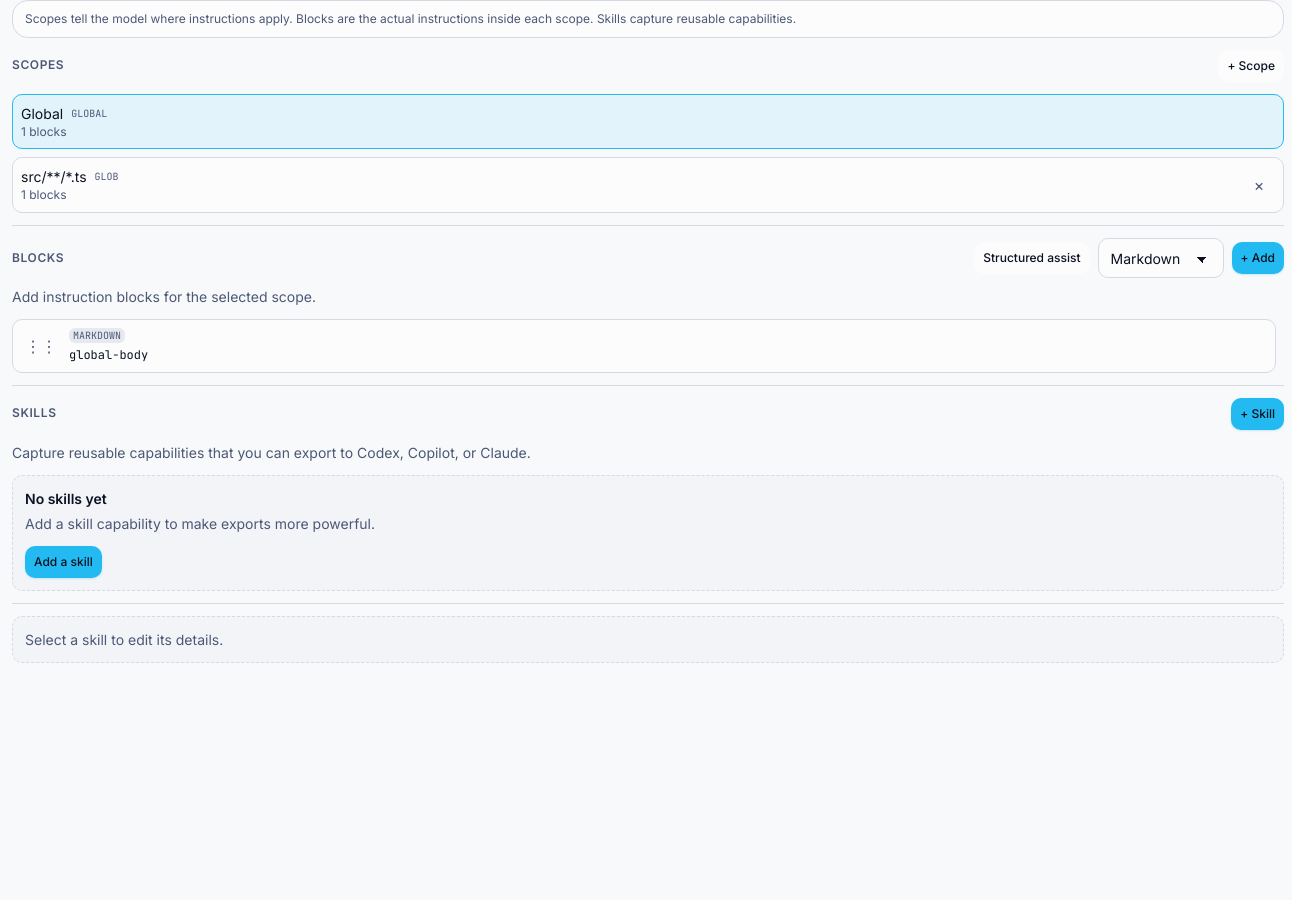
it: StructurePanel › shows blocks for the selected scope
The width and height of the screenshot is (1292, 900).
expect the text "Blocks" is shown: met, box [12,250,64,266]
expect the text "global-body" is shown: met, box [69,347,148,363]
Click the text "src/**/*.ts".
click(54, 177)  # box [21,166,86,187]
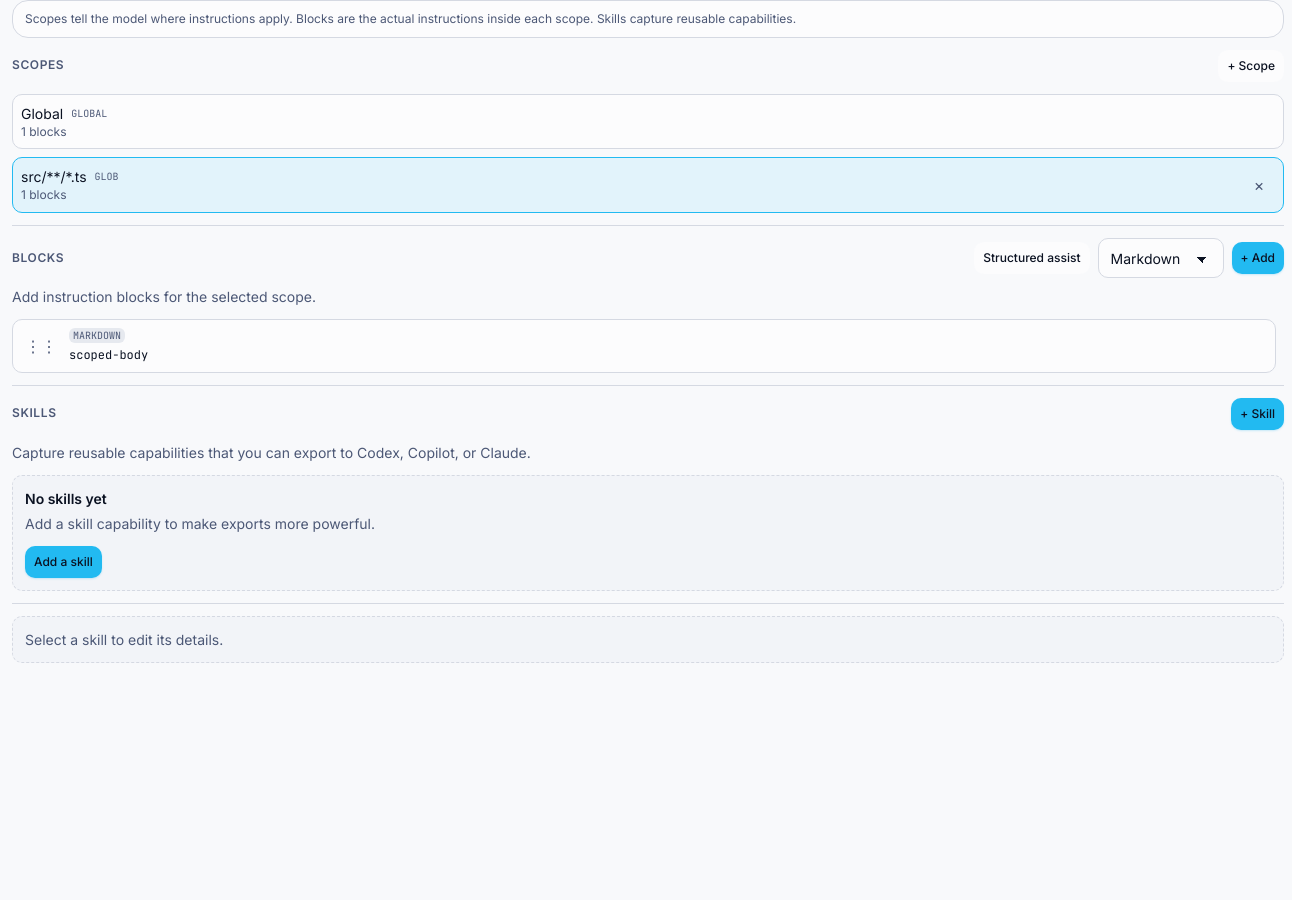
expect the text "scoped-body" is shown: met, box [69,347,148,363]
expect the button "global-body" is gone: met
